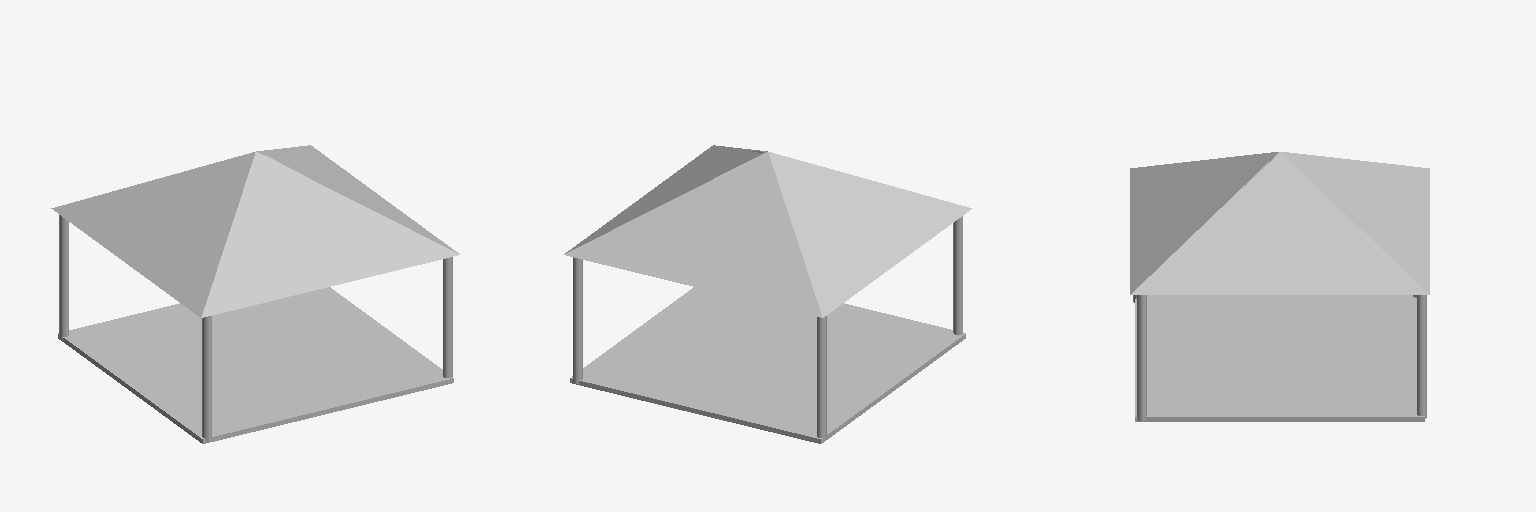
File: MetalBase2.obj
3 renders of one model, left to right at view 1: azimuth 30°, elevation 25°; view 2: azimuth 150°, elevation 25°; view 3: azimuth 270°, elevation 25°, orthographic.
Bounding box in the file's own units: 420 × 323 × 420.